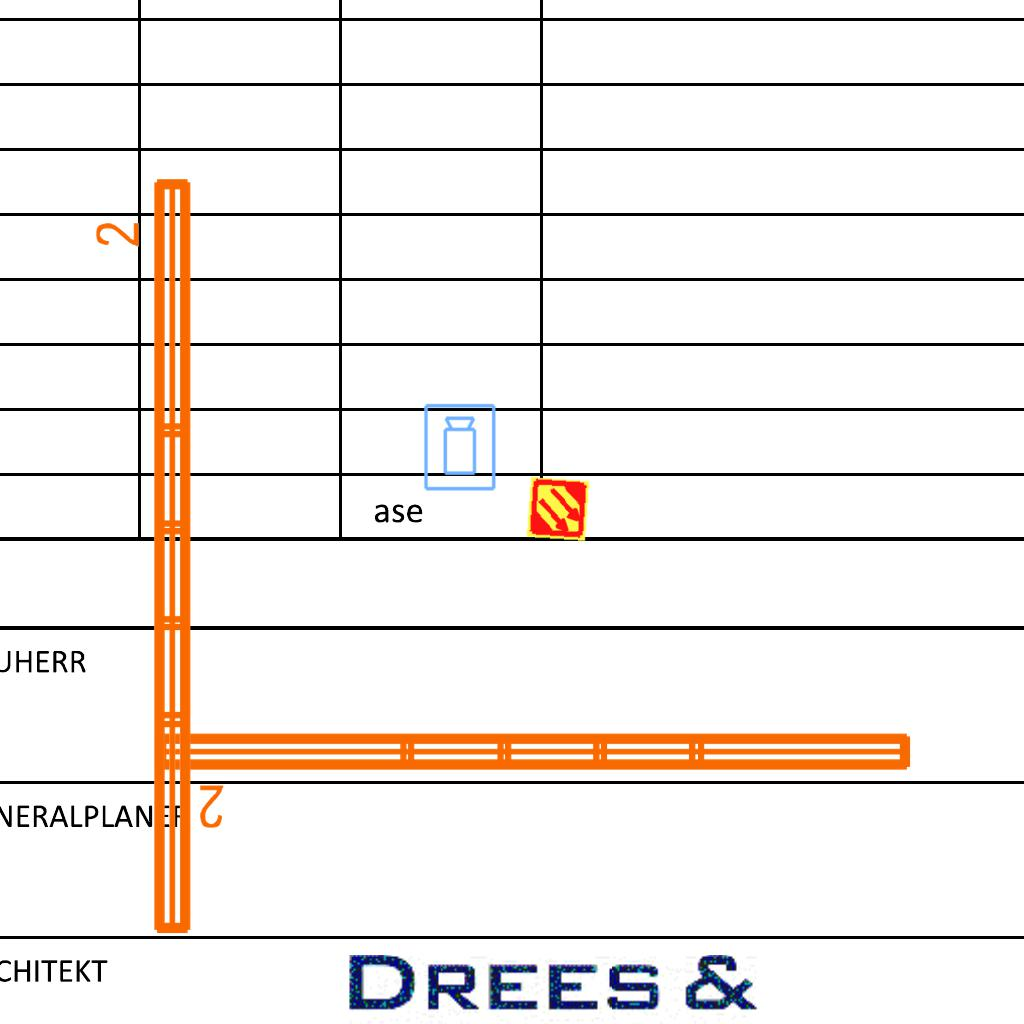ASR_Ansaugrauchmelder: (524, 475, 592, 543)
Ambulanz_Pendelleuchte_LED: (147, 721, 921, 833), (91, 170, 203, 944)
KFO_Kamera_mit_Festobjektiv: (422, 402, 499, 493)
